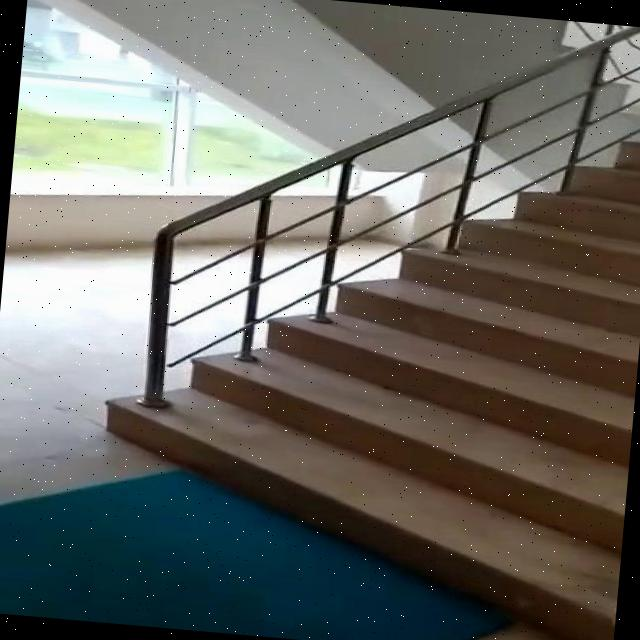stairs: (84, 91, 640, 640)
